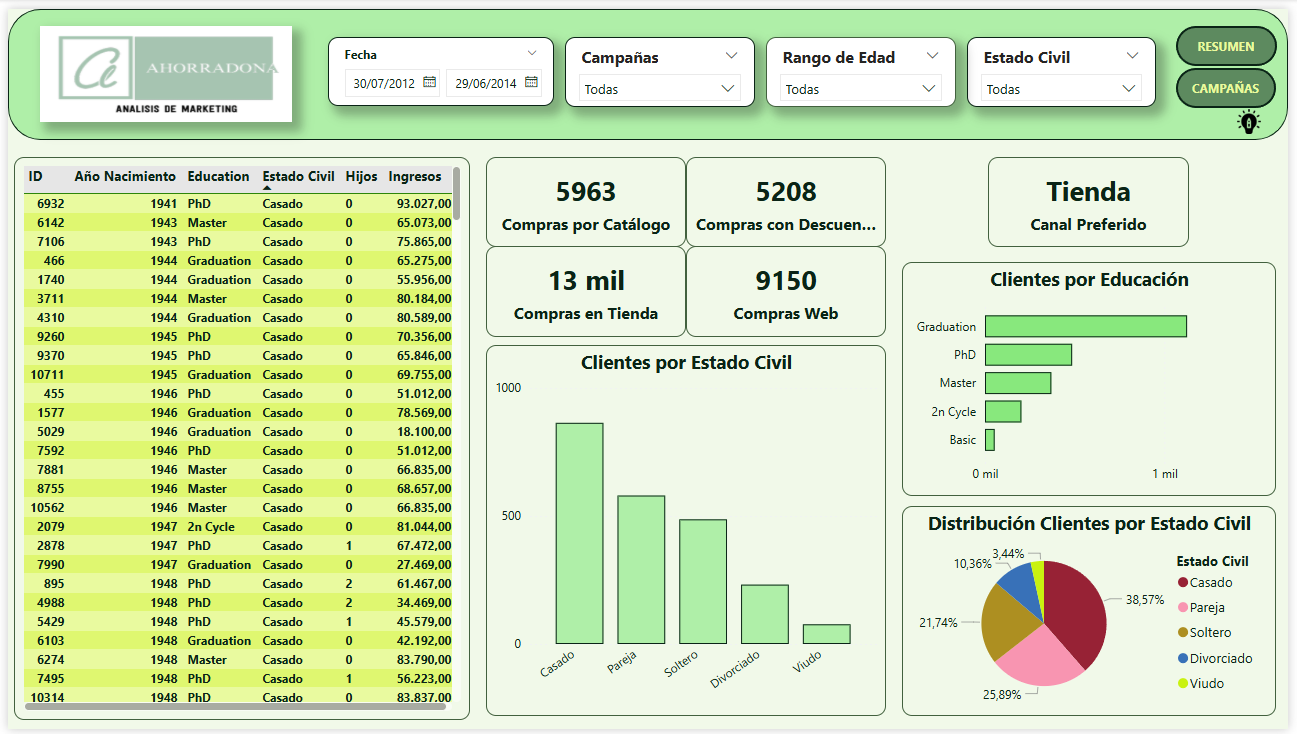

Layout of this report page (visuals, bound fields, positions):
{"tool":"powerbi","page":{"name":"Clientes","canvas":[1280,720],"ordinal":4},"visuals":[{"type":"shape","box":[0,0,1280,131.1],"z":0,"group":"g1"},{"type":"tableEx","fields":{"Values":["d_Clientes.ID","d_Clientes.Año Nacimiento","d_Clientes.Education","d_Clientes.Estado Civil","d_Clientes.Hijos","d_Clientes.Ingresos"]},"box":[6.1,148.4,455.7,562.8],"z":0},{"type":"actionButton","title":"BotónLight/Dark","box":[1228.8,100,24.3,25.2],"z":500,"group":"g1"},{"type":"actionButton","title":"Botón Campañas","box":[1168.4,59.2,100,39.5],"z":625,"group":"g1"},{"type":"actionButton","title":"Botón Campañas","box":[1168.4,17.2,100.1,40],"z":750,"group":"g1"},{"type":"image","box":[31.9,17.3,252.5,95.7],"z":1000,"group":"g1"},{"type":"pieChart","title":"Distribución Clientes por Estado Civil","fields":{"Category":["d_Clientes.Estado Civil"],"Y":["DAX Medidas.Total Clientes"]},"box":[893.6,496.8,374.5,210.6],"z":1000},{"type":"slicer","fields":{"Values":["d_Clientes.Estado Civil"]},"box":[958.5,27.7,189.4,70.2],"z":1500,"group":"g1"},{"type":"slicer","title":"Fecha","fields":{"Values":["d_Calendario.Fecha"]},"box":[320.2,27.7,225.5,69.1],"z":2000,"group":"g1"},{"type":"columnChart","title":"Clientes por Estado Civil","fields":{"Category":["d_Clientes.Estado Civil"],"Y":["DAX Medidas.Total Clientes"]},"box":[477.7,336.2,400,371.3],"z":2000},{"type":"slicer","fields":{"Values":["d_Campañas.Campañas Aceptadas"]},"box":[556.5,27.7,190.4,70.2],"z":3000,"group":"g1"},{"type":"barChart","title":"Clientes por Educación","fields":{"Category":["d_Clientes.Education"],"Y":["DAX Medidas.Total Clientes"]},"box":[893.6,253.2,374.5,234],"z":3000},{"type":"group","id":"g1","title":"Panel Superior","box":[0,0,1280,131.1],"z":4000},{"type":"slicer","fields":{"Values":["d_Clientes.Rango de Edad"]},"box":[757.7,27.7,190,70],"z":4000,"group":"g1"},{"type":"card","fields":{"Values":["DAX Medidas.Compras Catalogo"]},"box":[477.7,147.9,200,90.4],"z":5000},{"type":"card","fields":{"Values":["DAX Medidas.Compras Descuento"]},"box":[677.7,147.9,200,90.4],"z":6000},{"type":"card","fields":{"Values":["DAX Medidas.Compras Tienda"]},"box":[477.7,237.2,200,90.4],"z":7000},{"type":"card","fields":{"Values":["DAX Medidas.Compras Web"]},"box":[677.7,237.2,200,90.4],"z":8000},{"type":"card","fields":{"Values":["DAX Medidas.Canal Preferido"]},"box":[979.8,147.9,201.1,90.4],"z":9000}]}

Visuals, with their boxes in screenshot pixels (x1, y1, x2, y2), scaled from the page's 1280x720 canvas onto the 1297x734 screenshot:
shape: <bbox>0, 0, 1296, 134</bbox>
tableEx - d_Clientes.ID x d_Clientes.Año Nacimiento: <bbox>6, 151, 468, 725</bbox>
"BotónLight/Dark" actionButton: <bbox>1245, 102, 1270, 128</bbox>
"Botón Campañas" actionButton: <bbox>1184, 60, 1285, 101</bbox>
"Botón Campañas" actionButton: <bbox>1184, 18, 1285, 58</bbox>
image: <bbox>32, 18, 288, 115</bbox>
"Distribución Clientes por Estado Civil" pieChart: <bbox>905, 506, 1285, 721</bbox>
slicer - d_Clientes.Estado Civil: <bbox>971, 28, 1163, 100</bbox>
"Fecha" slicer: <bbox>324, 28, 553, 99</bbox>
"Clientes por Estado Civil" columnChart: <bbox>484, 343, 889, 721</bbox>
slicer - d_Campañas.Campañas Aceptadas: <bbox>564, 28, 757, 100</bbox>
"Clientes por Educación" barChart: <bbox>905, 258, 1285, 497</bbox>
"Panel Superior" group: <bbox>0, 0, 1296, 134</bbox>
slicer - d_Clientes.Rango de Edad: <bbox>768, 28, 960, 100</bbox>
card - DAX Medidas.Compras Catalogo: <bbox>484, 151, 687, 243</bbox>
card - DAX Medidas.Compras Descuento: <bbox>687, 151, 889, 243</bbox>
card - DAX Medidas.Compras Tienda: <bbox>484, 242, 687, 334</bbox>
card - DAX Medidas.Compras Web: <bbox>687, 242, 889, 334</bbox>
card - DAX Medidas.Canal Preferido: <bbox>993, 151, 1197, 243</bbox>
